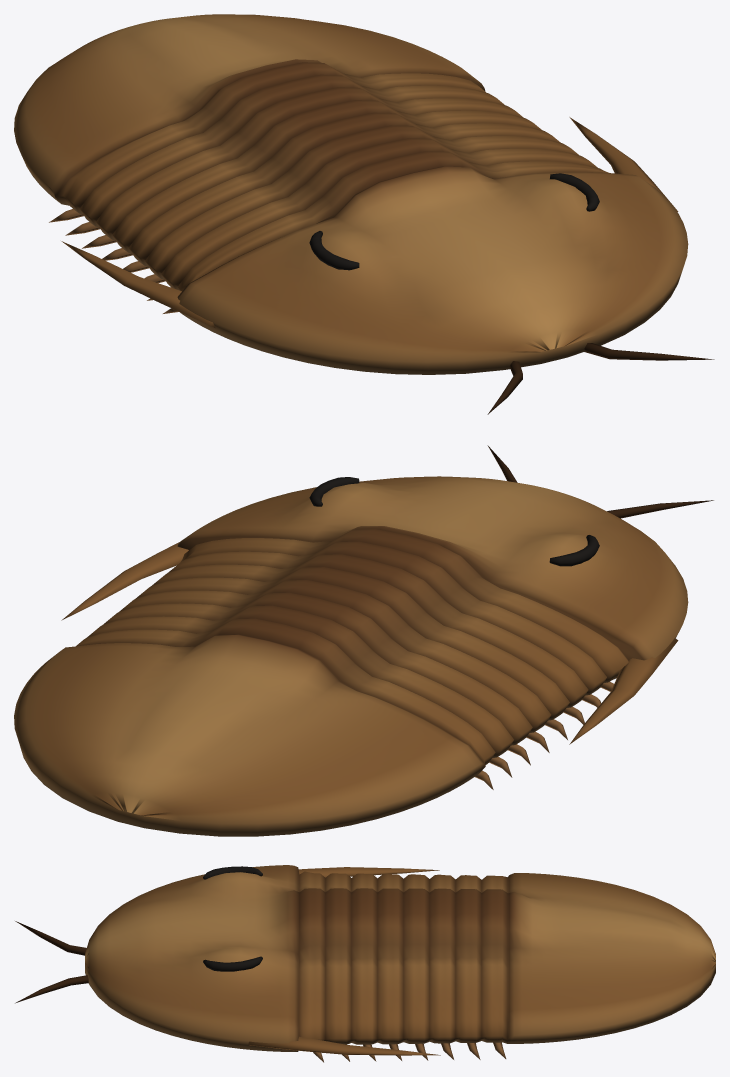
The model's file is IsotelusMaximus.fbx.
3 views of the same model, one above another, from view 1: azimuth 30°, elevation 25°; view 2: azimuth 150°, elevation 25°; view 3: azimuth 270°, elevation 25° (orthographic). The views are drawn at different scales.
Parts seen in each view (by area): view 1: IsotelusMaximus; view 2: IsotelusMaximus; view 3: IsotelusMaximus.
Boxes of the visible parts, x1,y1,x2,y2 form: IsotelusMaximus: (14, 14, 714, 414); IsotelusMaximus: (14, 445, 713, 836); IsotelusMaximus: (15, 865, 715, 1062).
Size of the model in its own units: 1.12 by 0.215 by 1.78.
